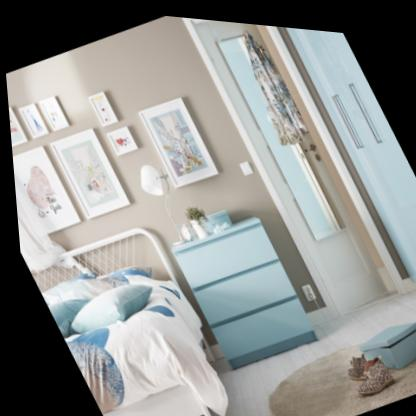Bed: (17, 203, 259, 416)
Carpet: (262, 329, 416, 416)
Frame: (266, 20, 416, 313), (47, 126, 127, 217), (136, 95, 215, 184), (10, 145, 78, 233), (86, 90, 117, 126), (17, 103, 46, 138), (103, 124, 136, 153), (7, 106, 26, 146)
Nightstand: (168, 211, 313, 365)
Wooden floor: (323, 281, 416, 343)
